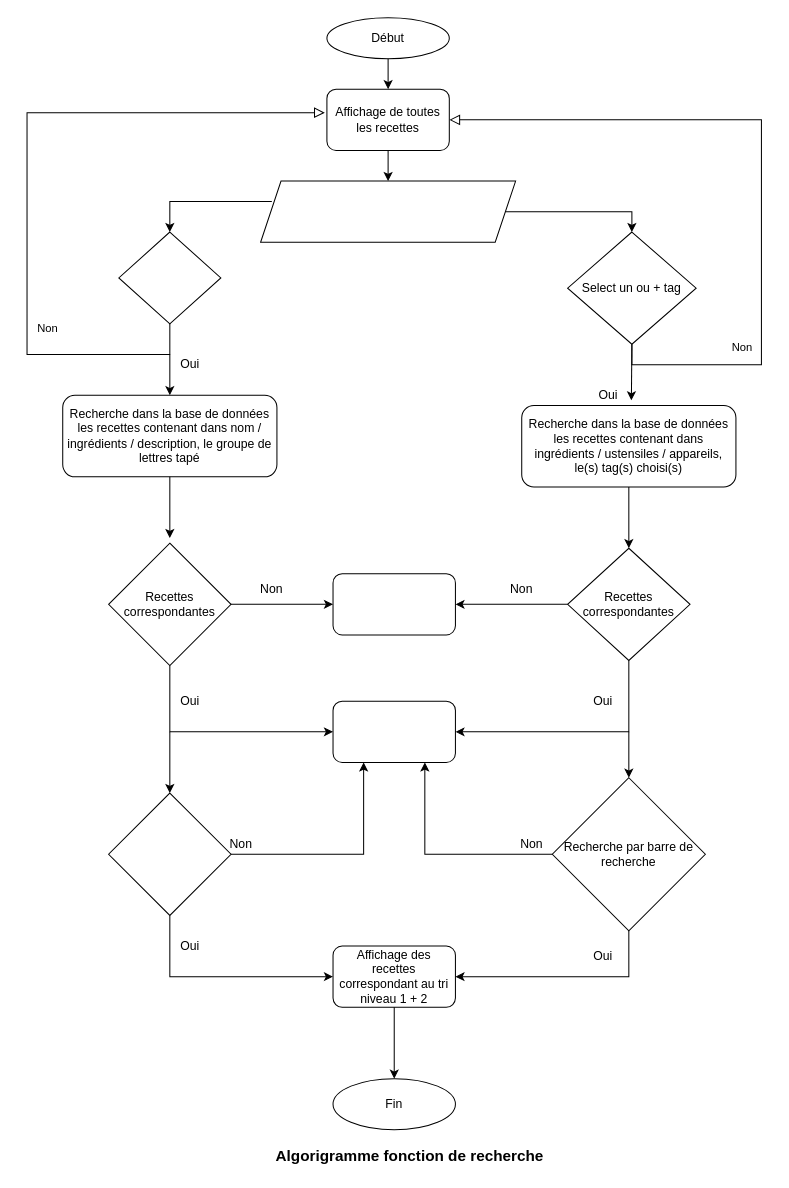
Image size: 789x1188. Some labels were removed from this diagram. Each missing label, with the box of its shape:
Affichage des recettes correspondant au tri 1er niveau: (332, 700, 455, 762)
Affichage message "pas de recettes": (332, 573, 455, 635)
Au moins 3 lettres: (118, 231, 221, 324)
Tag sélectionné: (108, 792, 231, 915)
Utilisateur fait une requête (barre de recherche / tag): (260, 180, 516, 242)
